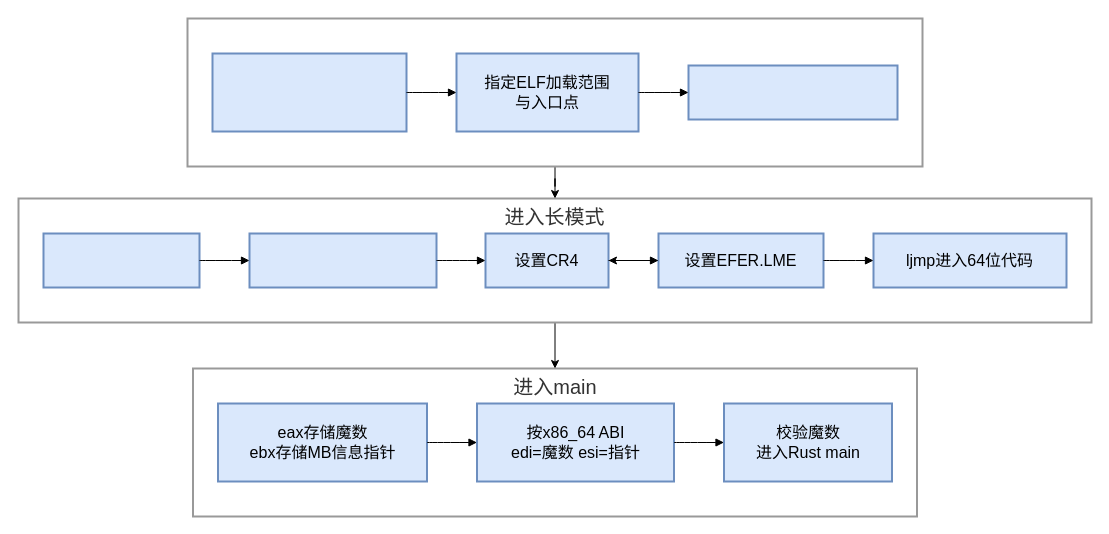
Some shapes in this 1109 by 534 pixel diagram are drawn without their labels. Each missing label, with the box of its shape:
Bootloader加载内核: (687, 64, 898, 120)
Multiboot引导: (186, 17, 923, 167)
加载早期页表: (42, 232, 200, 288)
设置CR0启用分页: (248, 232, 437, 288)
链接脚本嵌入 Multiboot header: (211, 52, 407, 132)
